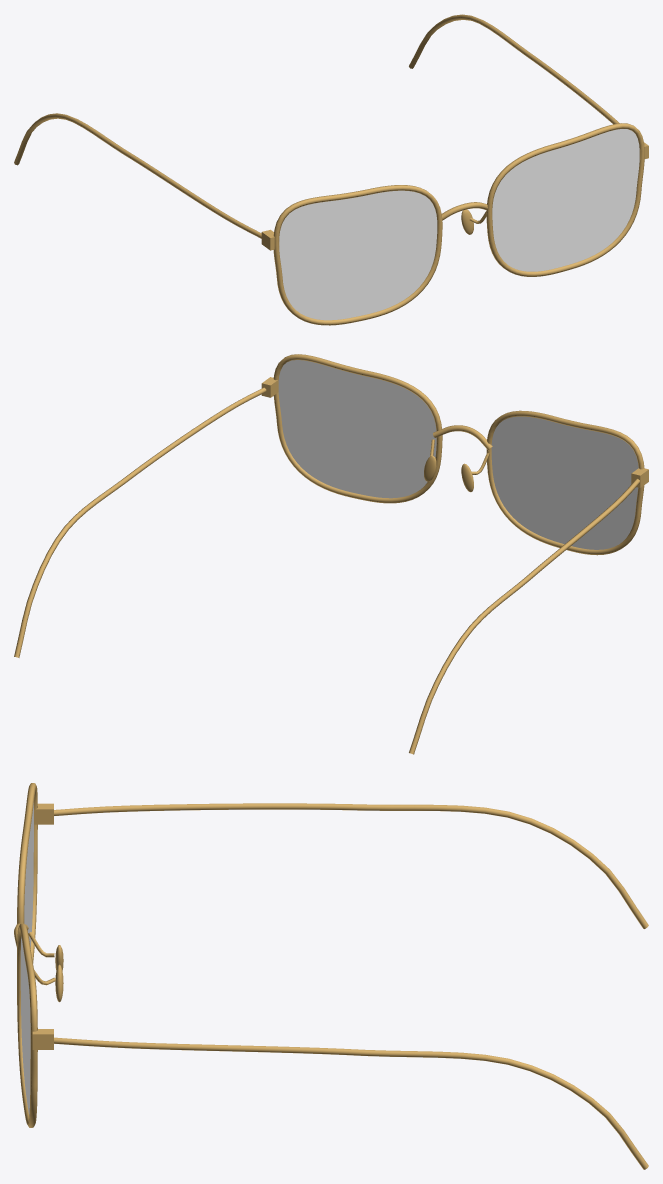
File: BM-W04_Pari_Gold.glb
3 views of the same model, one above another, from view 1: azimuth 30°, elevation 25°; view 2: azimuth 150°, elevation 25°; view 3: azimuth 270°, elevation 25° (orthographic). The views are drawn at different scales.
Parts seen in each view (by area): view 1: Pari_Gold_Lenses, Pari_Gold_Metal; view 2: Pari_Gold_Lenses, Pari_Gold_Metal; view 3: Pari_Gold_Metal, Pari_Gold_Lenses.
Part boxes in pixels (<box>): Pari_Gold_Lenses: <box>279,129,639,320</box>; Pari_Gold_Metal: <box>14,14,648,325</box>; Pari_Gold_Lenses: <box>278,360,638,549</box>; Pari_Gold_Metal: <box>14,354,648,754</box>; Pari_Gold_Metal: <box>14,783,648,1169</box>; Pari_Gold_Lenses: <box>20,803,33,1114</box>.
Bounding box in the file's own units: 0.1377 × 0.0431 × 0.148.
